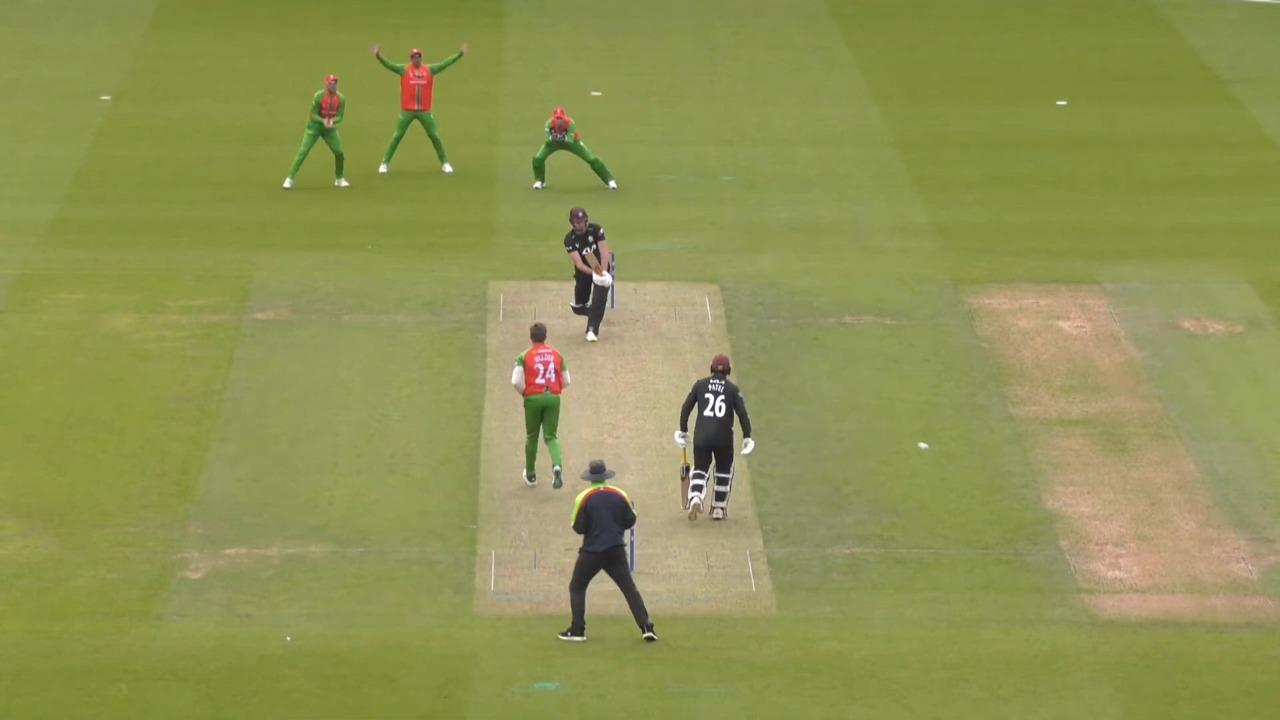sports ball: (918, 442, 928, 449)
